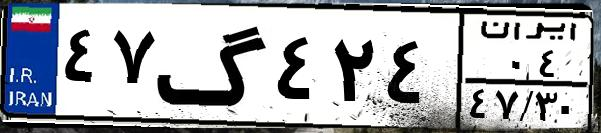0: (560, 70, 590, 125), (508, 27, 537, 80)
2: (330, 28, 385, 110)
3: (535, 70, 560, 125)
4: (270, 28, 330, 110), (385, 28, 445, 110), (57, 26, 110, 100), (537, 27, 568, 80), (470, 70, 495, 125)
7: (110, 28, 156, 98), (495, 70, 520, 125)
گ: (156, 12, 270, 120)
